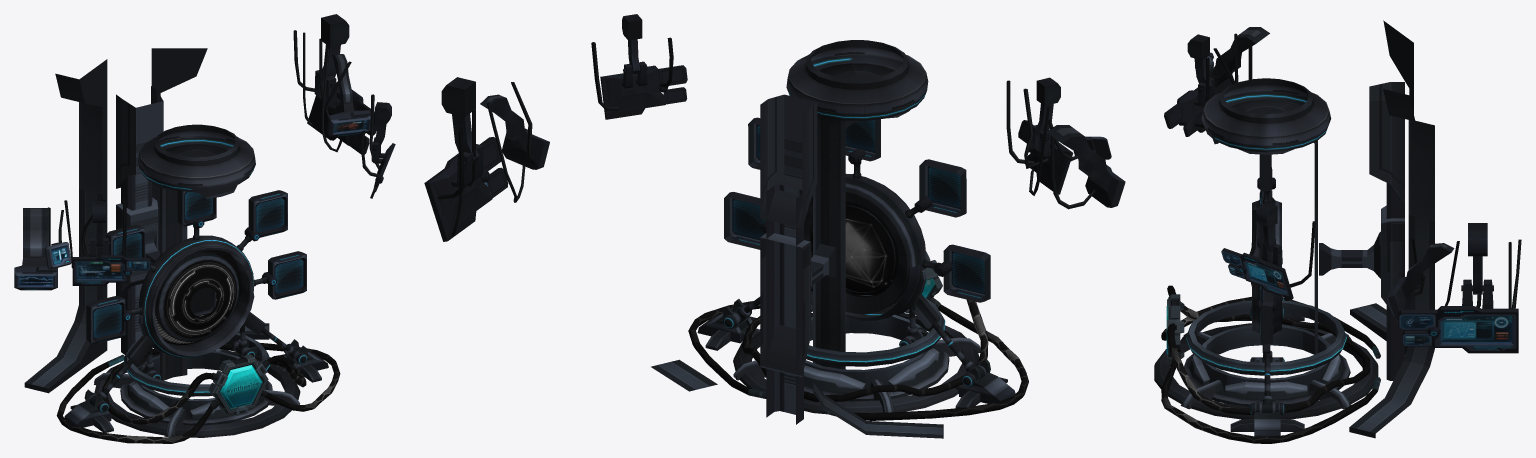
File: ts_bwhccj001.FBX
The picture shows the model from 3 angles, left to right: view 1: azimuth 30°, elevation 25°; view 2: azimuth 150°, elevation 25°; view 3: azimuth 270°, elevation 25°; orthographic projection. The views are drawn at different scales.
Visible parts, largest first — view 1: ts_bwhcobj004, ts_bwhcobj001, ts_bwhcobj005, ts_bwhc_gow003, ts_bwhc_gow001, ts_bwhcobj003, ts_bwhcobj002, ts_bwhc_wpk003, ts_bwhc_wpk004, ts_bwhc_wpk005, ts_bwhcobj006, ts_bwhcobj007 (+5 smaller); view 2: ts_bwhcobj004, ts_bwhcobj001, ts_bwhcobj005, ts_bwhc_gow003, ts_bwhcobj003, ts_bwhc_gow002, ts_bwhc_wpk004, ts_bwhc_wpk002, ts_bwhc_wpk005, ts_bwhc_wpk001; view 3: ts_bwhcobj004, ts_bwhcobj001, ts_bwhc_gow003, ts_bwhcobj002, ts_bwhcobj005, ts_bwhcobj003, ts_bwhc_wpk005, ts_bwhcobj007, ts_bwhc_wpk001.
Part boxes in pixels (<box>): ts_bwhcobj004: <box>24,48,300,437</box>; ts_bwhcobj001: <box>14,14,395,290</box>; ts_bwhcobj005: <box>64,235,328,432</box>; ts_bwhc_gow003: <box>56,342,340,443</box>; ts_bwhc_gow001: <box>164,260,236,338</box>; ts_bwhcobj003: <box>47,30,379,268</box>; ts_bwhcobj002: <box>17,119,385,287</box>; ts_bwhc_wpk003: <box>237,190,287,250</box>; ts_bwhc_wpk004: <box>86,295,142,344</box>; ts_bwhc_wpk005: <box>254,251,306,299</box>; ts_bwhcobj006: <box>155,252,239,341</box>; ts_bwhcobj007: <box>208,354,268,415</box>; ts_bwhcobj004: <box>651,40,980,438</box>; ts_bwhcobj001: <box>424,14,1125,241</box>; ts_bwhcobj005: <box>697,173,1015,408</box>; ts_bwhc_gow003: <box>688,299,1028,420</box>; ts_bwhcobj003: <box>438,37,1095,236</box>; ts_bwhc_gow002: <box>811,201,898,295</box>; ts_bwhc_wpk004: <box>922,244,990,302</box>; ts_bwhc_wpk002: <box>905,159,966,218</box>; ts_bwhc_wpk005: <box>724,192,766,249</box>; ts_bwhc_wpk001: <box>845,119,880,179</box>; ts_bwhcobj004: <box>1154,20,1434,438</box>; ts_bwhcobj001: <box>1164,27,1518,353</box>; ts_bwhc_gow003: <box>1161,285,1377,443</box>; ts_bwhcobj002: <box>1222,251,1513,345</box>; ts_bwhcobj005: <box>1230,196,1304,436</box>; ts_bwhcobj003: <box>1194,33,1521,350</box>; ts_bwhc_wpk005: <box>1257,287,1275,344</box>; ts_bwhcobj007: <box>1167,294,1184,364</box>; ts_bwhc_wpk001: <box>1257,154,1275,203</box>.
Size of the model in its own units: 7.56 by 4.71 by 4.9.
